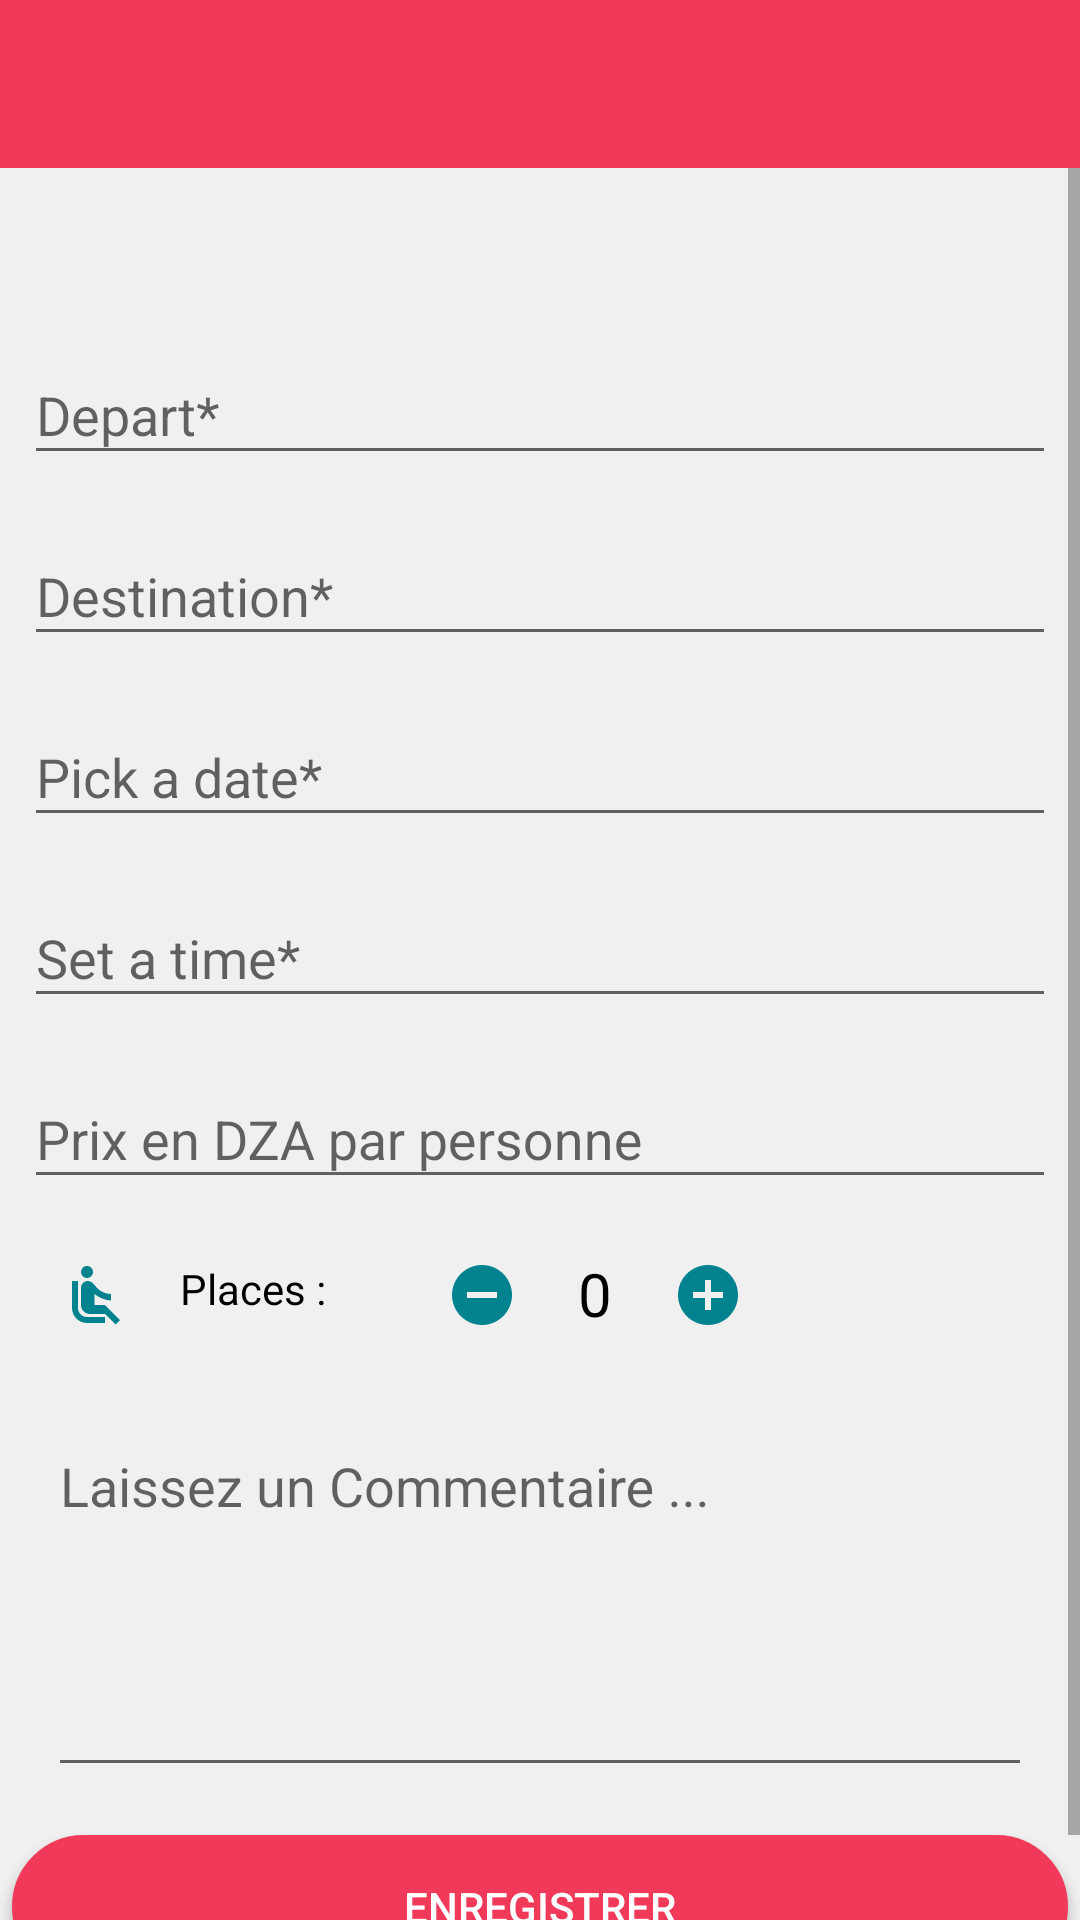

Icon bounding boxes for this 1080 × 1920 phone screenshot, format [x1,y1,x2,y2]:
add circle: [678,1265,738,1325]
remove circle: [452,1265,512,1325]
